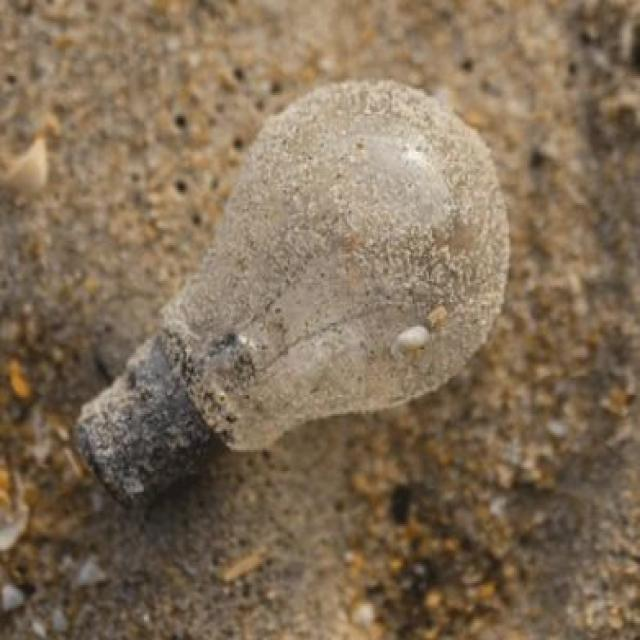electronic: (70, 74, 511, 511)
